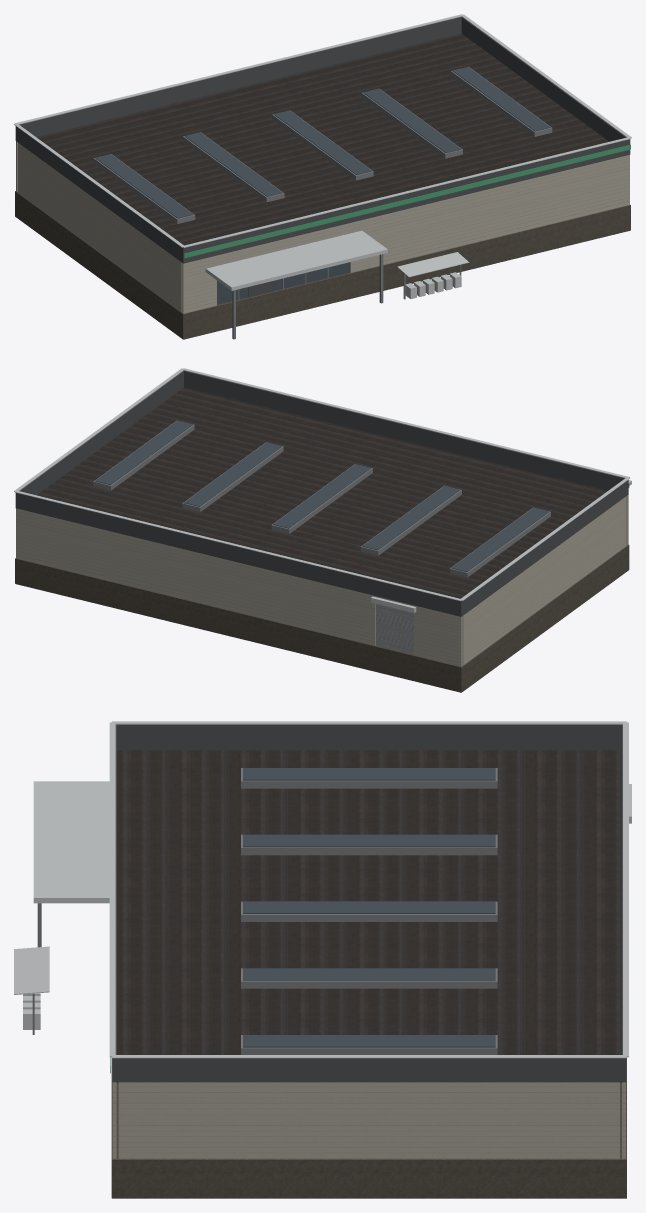
The model's file is supermarket.glb.
3 views of the same model, one above another, from view 1: azimuth 30°, elevation 25°; view 2: azimuth 150°, elevation 25°; view 3: azimuth 270°, elevation 25° (orthographic). The views are drawn at different scales.
Parts seen in each view (by area): view 1: supermarket-plinth; view 2: supermarket-plinth; view 3: supermarket-plinth.
Part boxes in pixels (x1=…): supermarket-plinth: x1=14, y1=14, x2=631, y2=339; supermarket-plinth: x1=14, y1=368, x2=631, y2=692; supermarket-plinth: x1=14, y1=721, x2=631, y2=1198.
Bounding box in the file's own units: 40.3 × 7.95 × 31.3.
Materials: 9 (4 with a texture image).
